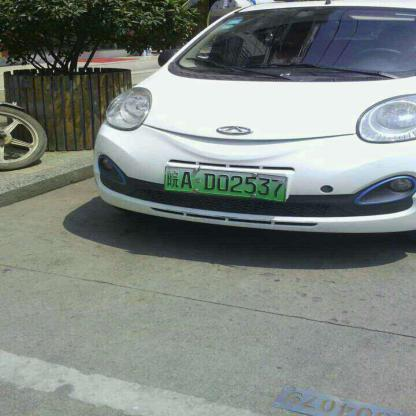lp: (163, 166, 292, 204)
